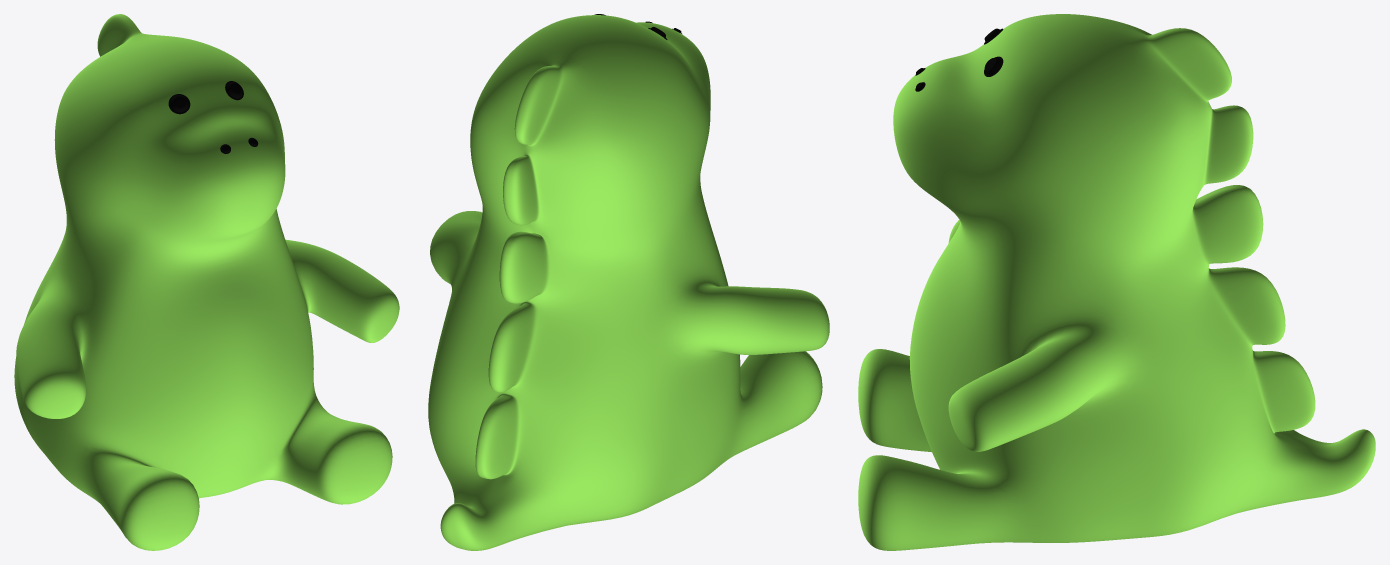
The model's file is dino_G.glb.
The picture shows the model from 3 angles, left to right: view 1: azimuth 30°, elevation 25°; view 2: azimuth 150°, elevation 25°; view 3: azimuth 270°, elevation 25°; orthographic projection. The views are drawn at different scales.
Parts seen in each view (by area): view 1: obj3, obj1; view 2: obj3; view 3: obj3.
Boxes of the visible parts, <box> form: obj3: <box>14,14,399,550</box>; obj1: <box>168,81,243,114</box>; obj3: <box>428,15,829,550</box>; obj3: <box>858,14,1375,550</box>.
Size of the model in its own units: 0.0467 by 0.0502 by 0.0501.
